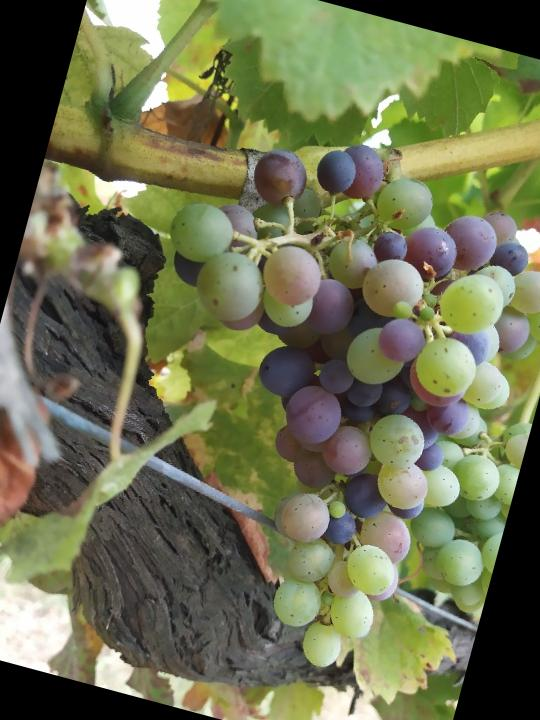grape: (68, 94, 540, 706)
